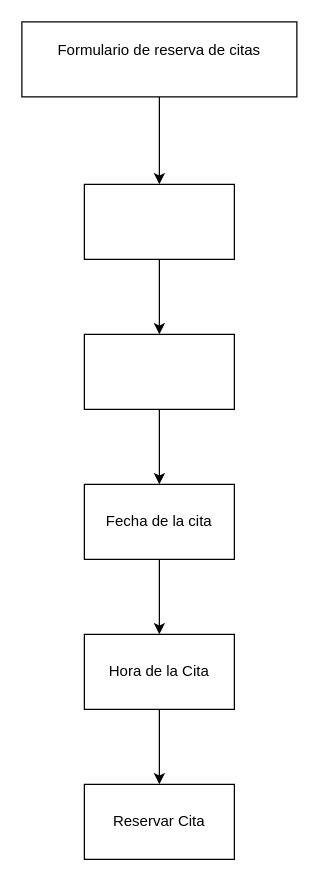
This 319x881 diagram has some shape labels left out. Here are the shapes that lost their labels. From the top down, the centre of each, then its label:
[158,221]: Nombre Completo
[158,371]: Telefono
